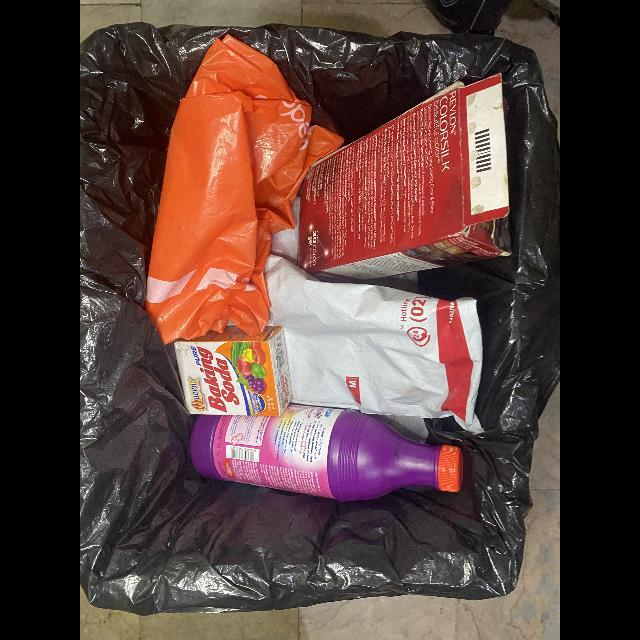paper: (298, 74, 513, 283), (174, 325, 292, 417)
plastic: (143, 33, 345, 346), (264, 255, 483, 433), (189, 408, 466, 504)
